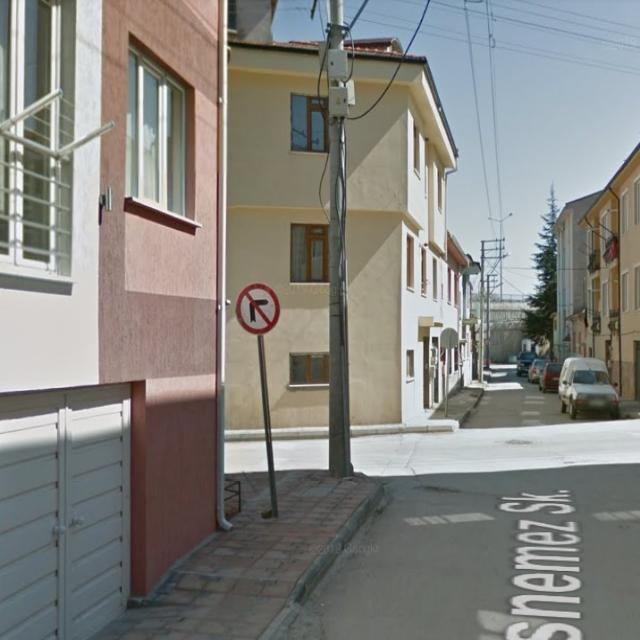sagadonulmez: (236, 284, 280, 334)
